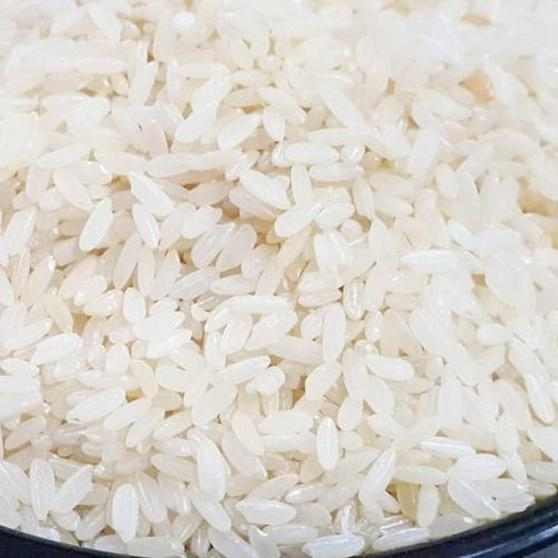rice: (83, 76, 473, 369)
